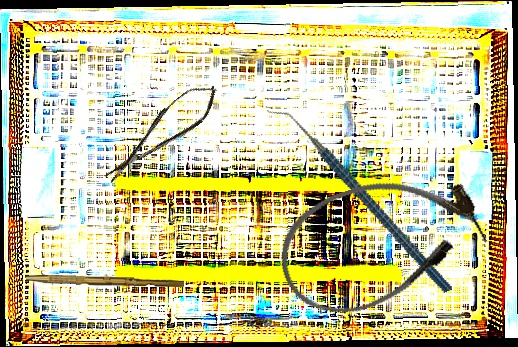Cannula: (263, 153, 498, 331)
Chopper: (266, 70, 453, 330)
Micro Scissor: (94, 76, 227, 190)
Scalpel Handle: (25, 274, 185, 289)
